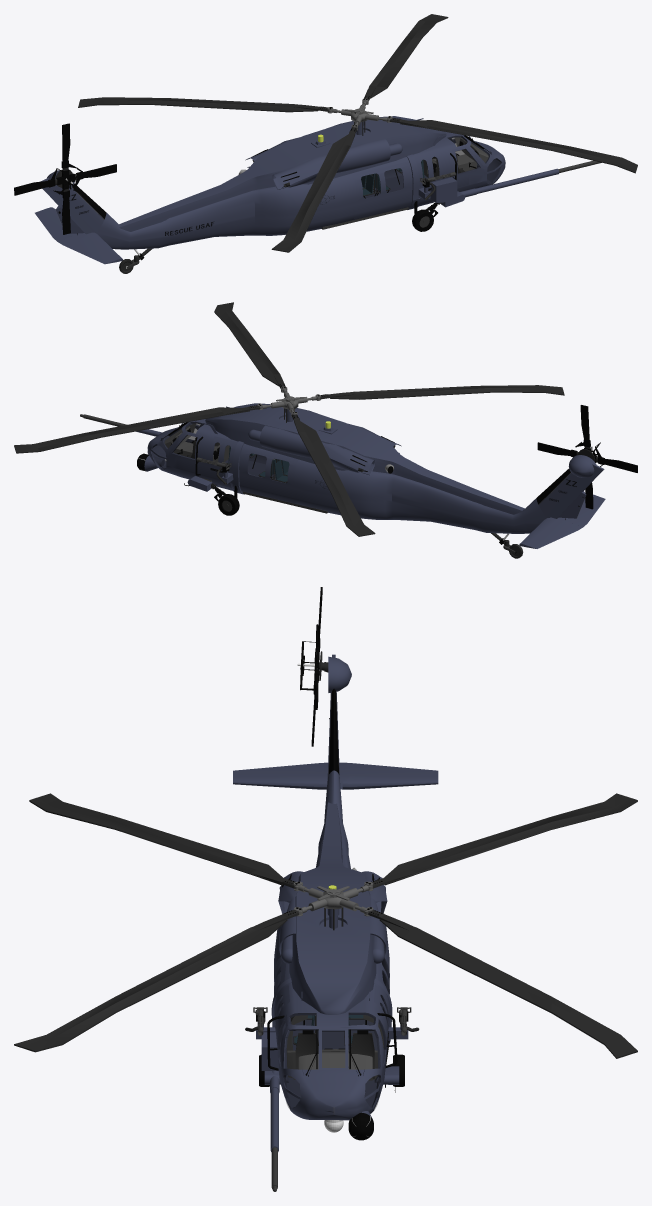
The picture shows the model from 3 angles, top to bottom: view 1: azimuth 30°, elevation 25°; view 2: azimuth 150°, elevation 25°; view 3: azimuth 270°, elevation 25°; orthographic projection. The views are drawn at different scales.
Visible parts, largest first — view 1: Sphere.001, Circle.005, Plane.009; view 2: Sphere.001, Circle.005, Plane.009; view 3: Sphere.001, Circle.005, Plane.009.
Part boxes in pixels (bbox=[...]): Sphere.001: bbox=[35, 116, 558, 273]; Circle.005: bbox=[78, 14, 637, 252]; Plane.009: bbox=[14, 123, 116, 234]; Sphere.001: bbox=[136, 403, 605, 558]; Circle.005: bbox=[14, 302, 564, 536]; Plane.009: bbox=[537, 405, 637, 509]; Sphere.001: bbox=[233, 654, 438, 1151]; Circle.005: bbox=[14, 793, 637, 1058]; Plane.009: bbox=[297, 587, 328, 746].
Size of the model in its own units: 17.75 by 5.06 by 11.21.
Materials: 24 (2 with a texture image).
